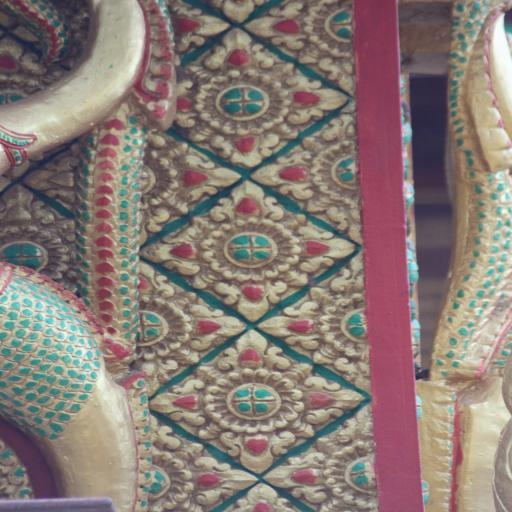la: (151, 184, 333, 298), (172, 339, 345, 457), (179, 35, 318, 148), (260, 118, 383, 220), (111, 131, 227, 221), (124, 275, 230, 370), (296, 267, 395, 368), (120, 435, 258, 507), (288, 420, 395, 508), (274, 0, 376, 67), (0, 206, 72, 274), (148, 0, 225, 43)
